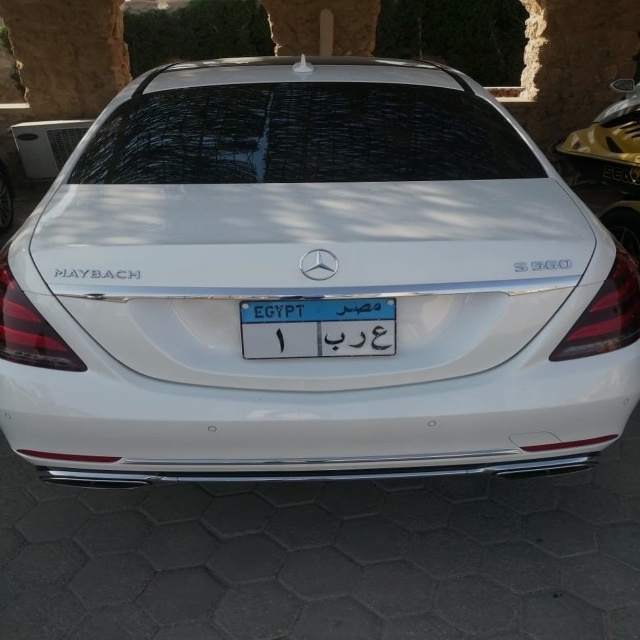License Plate: (239, 298, 401, 362)
